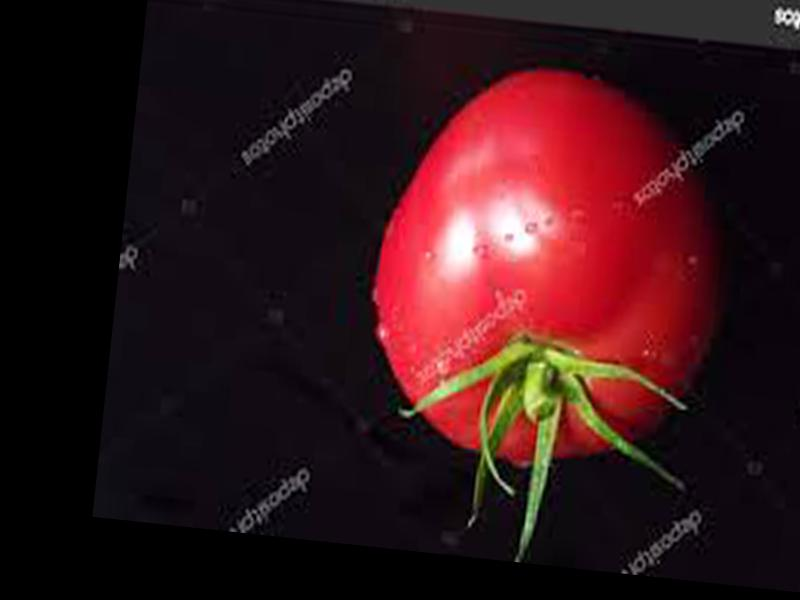Tomato: (357, 54, 740, 482)
